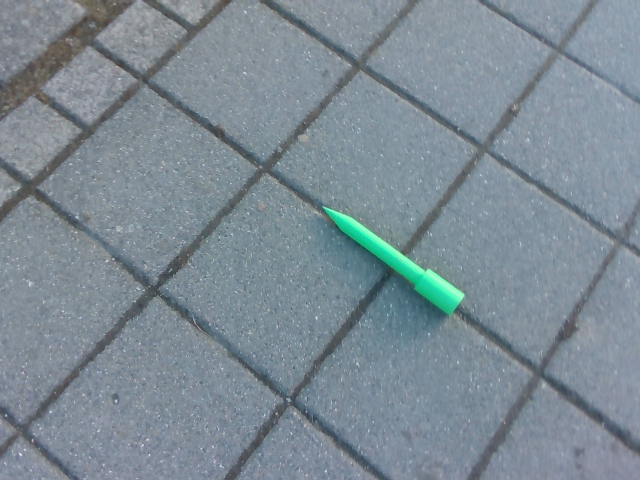Probe: (318, 199, 468, 320)
